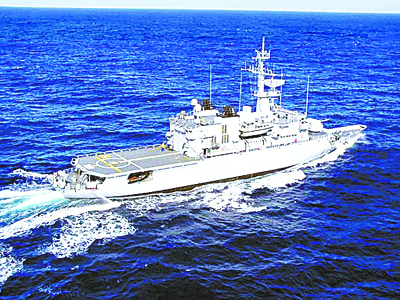warship: (40, 36, 366, 202)
